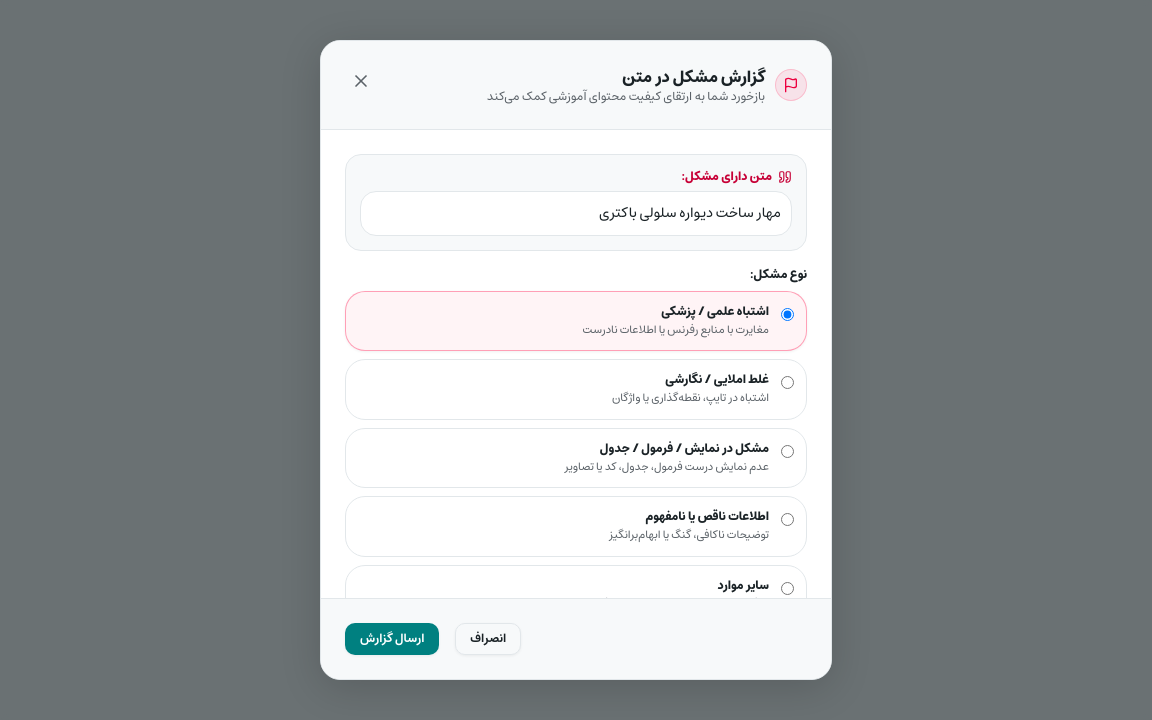
Test: Lesson Text Interaction & Selection Feature Suite › 5. ReportIssueDialog Component › allows selecting a category and submitting report with success state
expect the heading "گزارش مشکل در متن" is shown: met, box [622,63,765,91]
expect the text "اشتباه علمی / پزشکی" is shown: met, box [661,301,769,322]
Select "غلط املایی / نگارشی"
Click the radio button labelled "غلط املایی / نگارشی اشتباه در تایپ، نقطه‌گذاری یا واژگان".
click(788, 383)  # box [781,376,794,389]
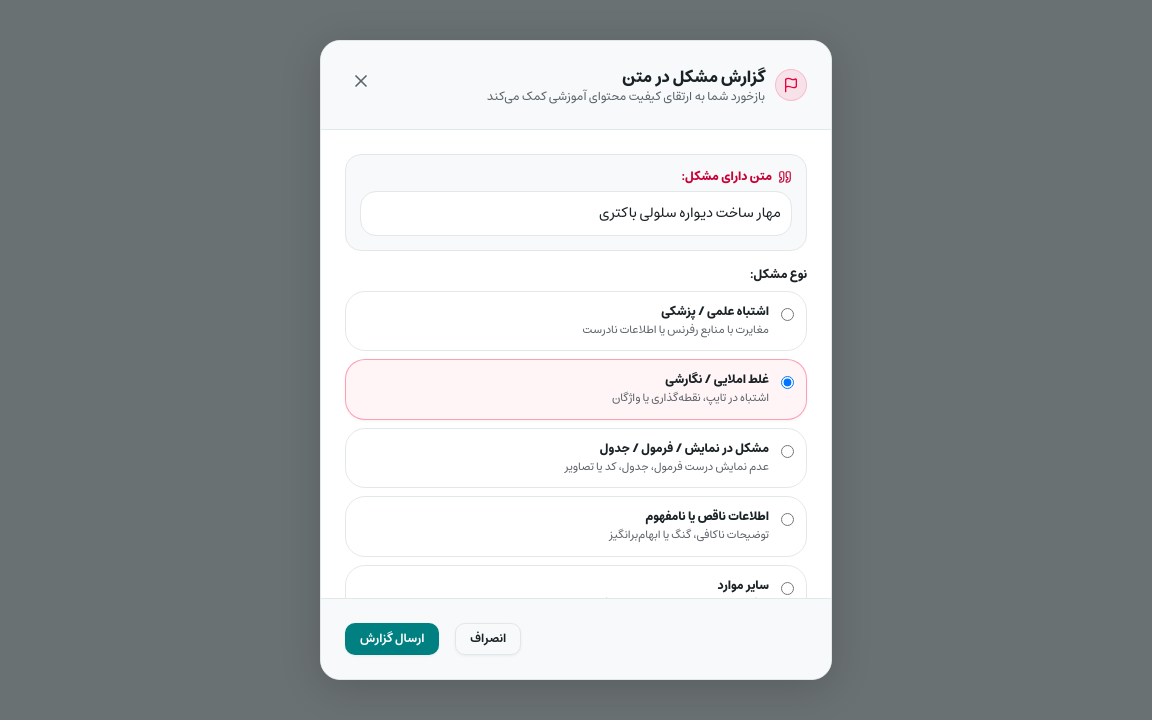
Click the button "ارسال گزارش".
click(392, 639)  # box [345,623,439,655]
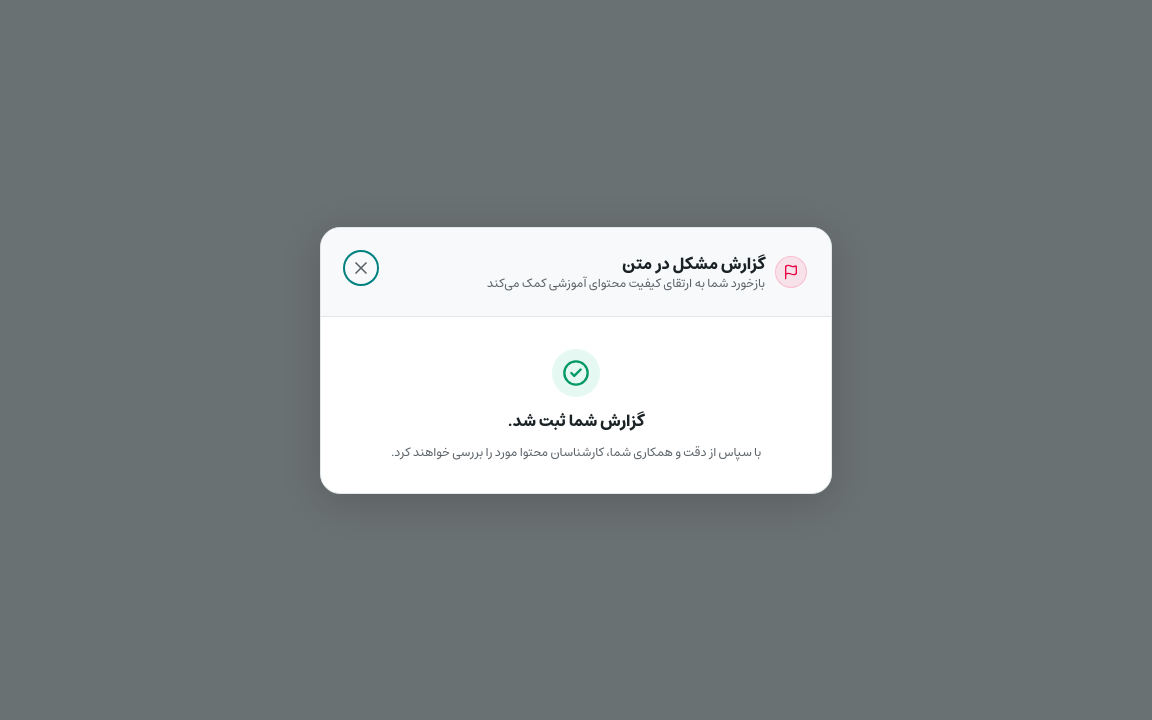
expect the heading "گزارش شما ثبت شد." is shown: met, box [508,408,644,432]
